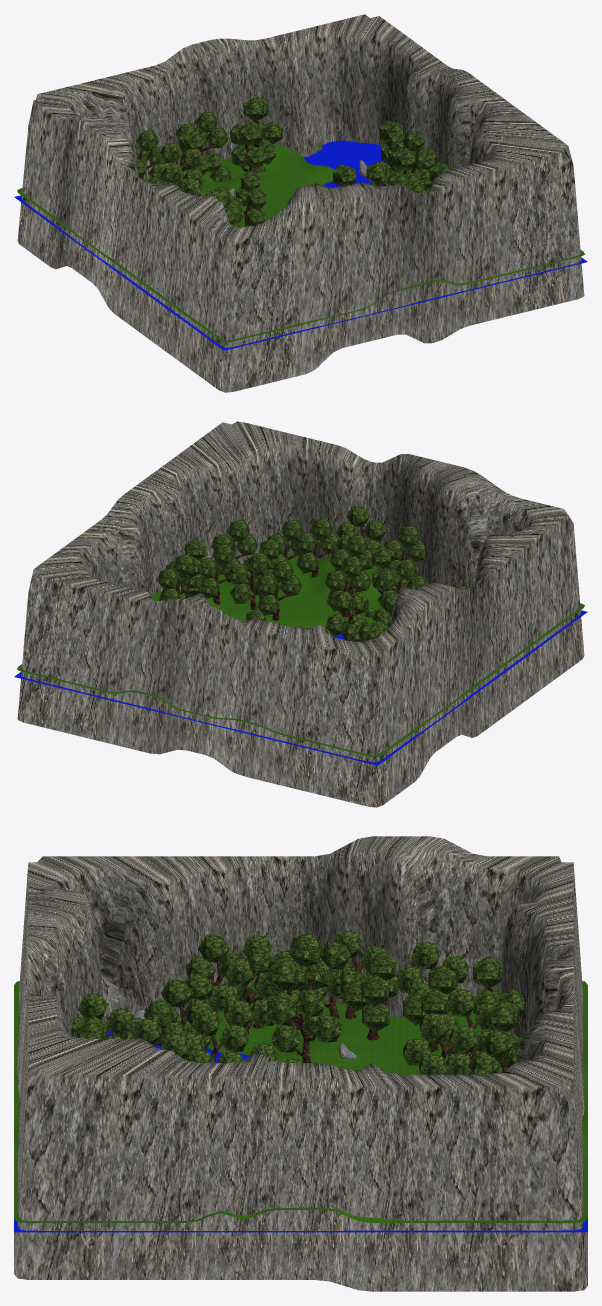
The model's file is homebc.obj.
3 renders of one model, top to bottom at view 1: azimuth 30°, elevation 25°; view 2: azimuth 150°, elevation 25°; view 3: azimuth 270°, elevation 25°, orthographic. The views are drawn at different scales.
Visible parts, largest first — view 1: Plane, Plane1, Plane2; view 2: Plane, Plane1, Plane2; view 3: Plane, Plane1, Plane2, Icosahedron170, Icosahedron106, Icosahedron69, Icosahedron77, Icosahedron52, Icosahedron136, Icosahedron131, Icosahedron121, Icosahedron154 (+21 smaller).
Boxes of the visible parts, x1,y1,x2,y2 form: Plane: (17, 14, 584, 392); Plane1: (17, 139, 584, 342); Plane2: (14, 140, 587, 350); Plane: (17, 421, 584, 807); Plane1: (17, 554, 584, 757); Plane2: (14, 610, 587, 765); Plane: (14, 836, 587, 1291); Plane1: (14, 981, 587, 1222); Plane2: (14, 1030, 587, 1232); Icosahedron170: (289, 932, 323, 966); Icosahedron106: (487, 1001, 515, 1031); Icosahedron69: (473, 957, 500, 988); Icosahedron77: (361, 974, 388, 1006); Icosahedron52: (270, 959, 297, 991); Icosahedron136: (482, 1029, 514, 1058); Icosahedron131: (197, 934, 229, 963); Icosahedron121: (160, 979, 192, 1007); Icosahedron154: (101, 975, 128, 1022).
Bounding box in the file's own units: 52.68 × 22.52 × 52.68.
6 materials, 6 textured.
